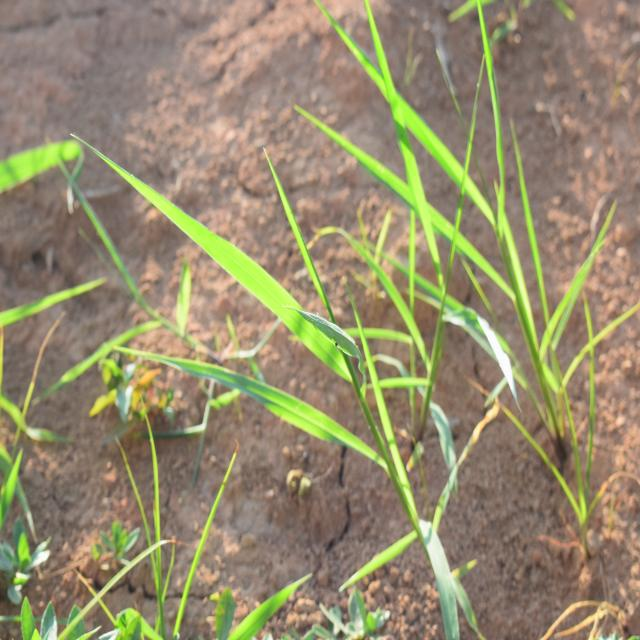green_foxtail: (193, 176, 493, 580), (362, 54, 604, 452)
